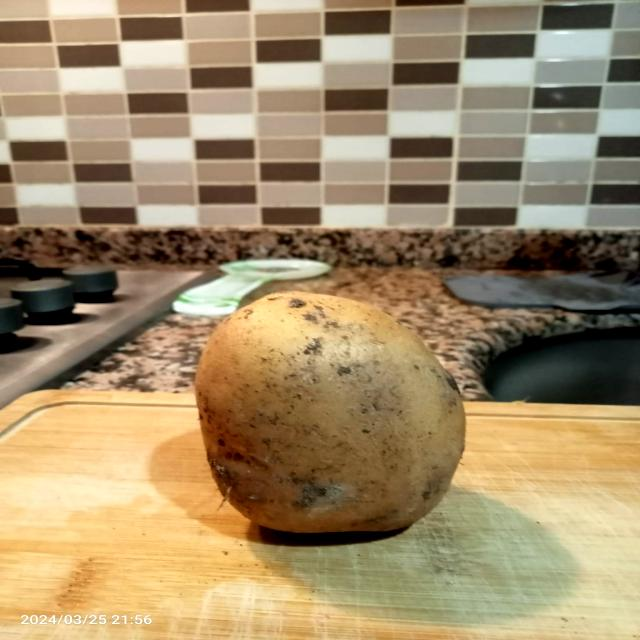potato: (183, 272, 492, 551)
